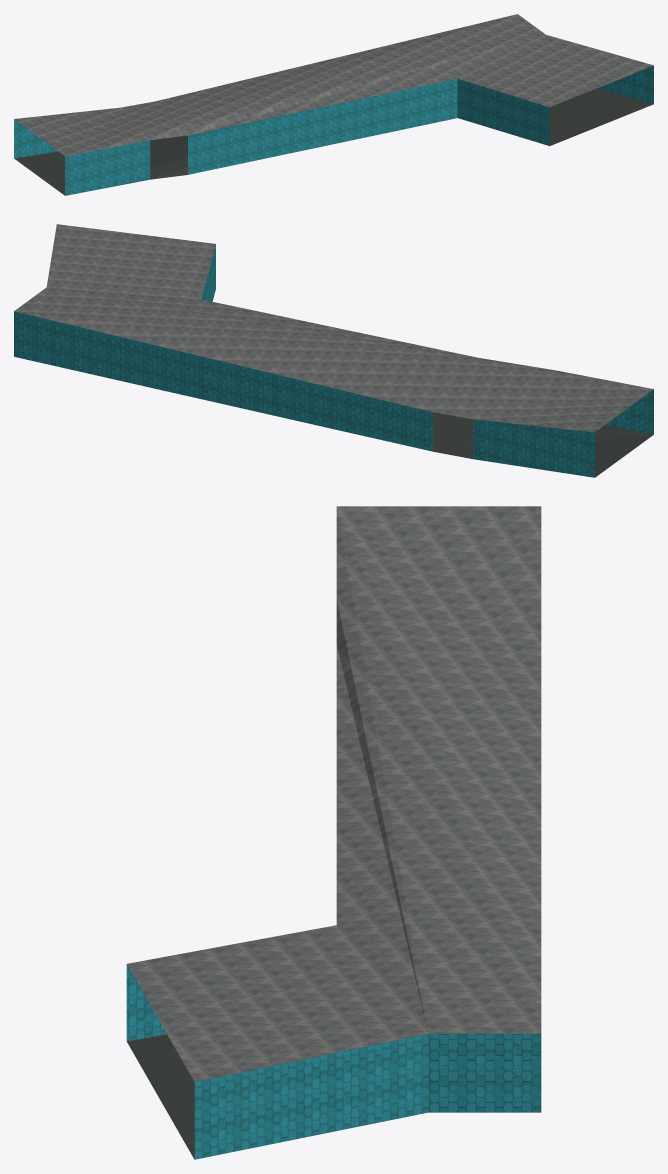
The model's file is east_long.FBX.
3 views of the same model, one above another, from view 1: azimuth 30°, elevation 25°; view 2: azimuth 150°, elevation 25°; view 3: azimuth 270°, elevation 25° (orthographic). The views are drawn at different scales.
Parts seen in each view (by area): view 1: East_Long; view 2: East_Long; view 3: East_Long.
Boxes of the visible parts, bbox=[...] form: East_Long: bbox=[14, 14, 653, 195]; East_Long: bbox=[14, 224, 653, 477]; East_Long: bbox=[126, 506, 541, 1159].
Size of the model in its own units: 1105 by 109 by 358.
